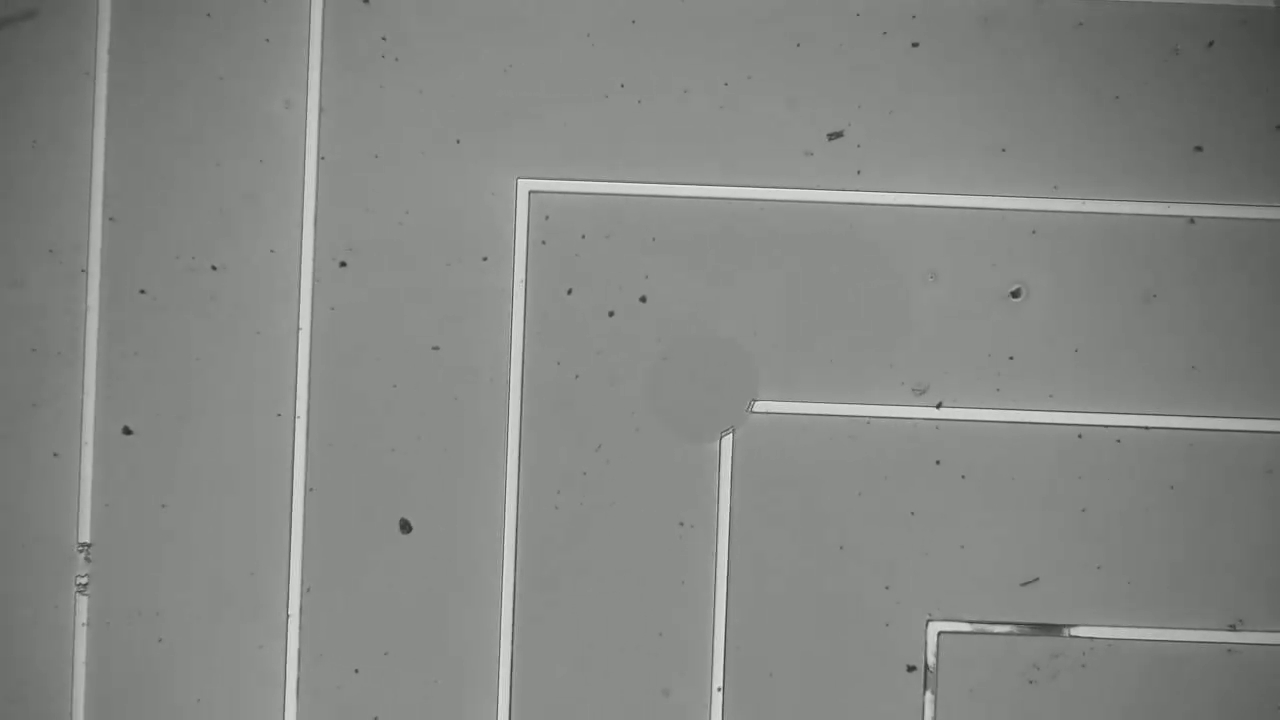gray_line: (969, 601, 1101, 651), (909, 648, 947, 713)
open: (697, 368, 781, 456), (54, 519, 107, 618)
